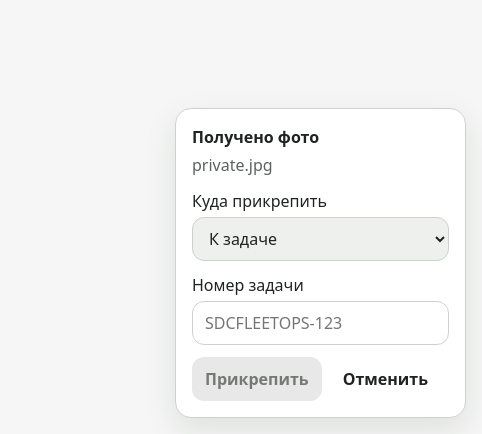
Test: ShareTargetInbox › refuses to send a claimed photo if the server session switched accounts
Step 1. Type "SDCFLEETOPS-1" into the field labelled "Номер задачи" → (320, 323), box [192, 301, 449, 345]
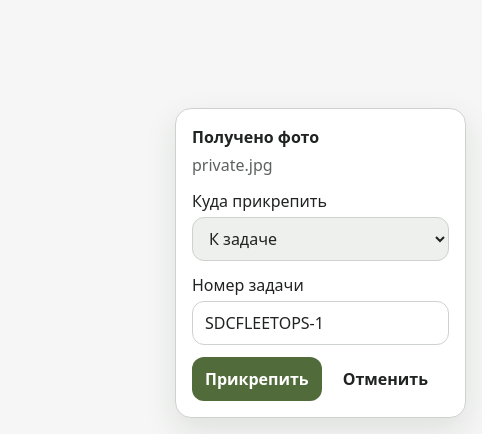
Step 2. Click the button "Прикрепить" → (257, 379), box [192, 357, 322, 401]
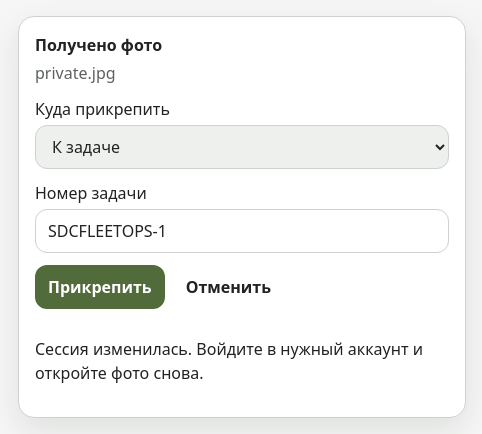
expect the message shows "Сессия изменилась": met, box [35, 338, 423, 384]
